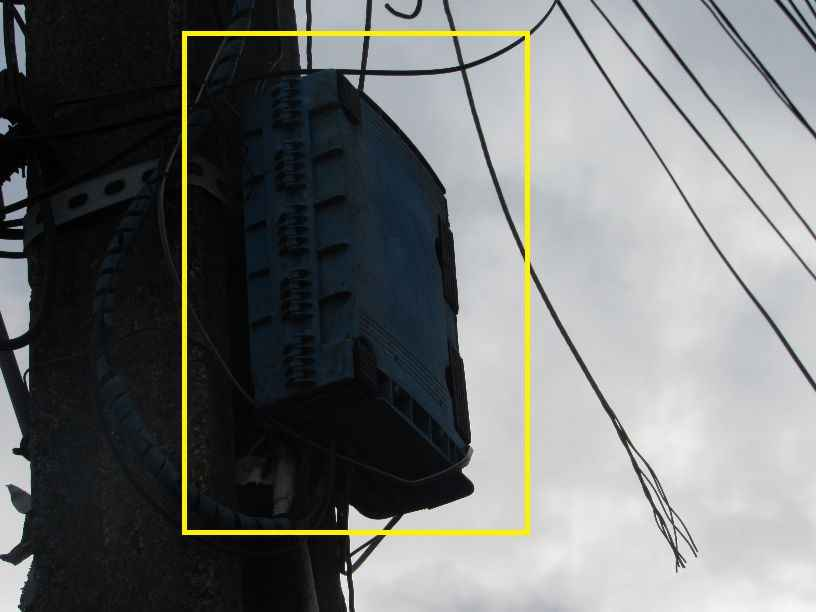cabo_partido: (580, 362, 703, 577)
caixa_derivacao: (223, 68, 495, 522)
poste: (25, 4, 335, 612)
